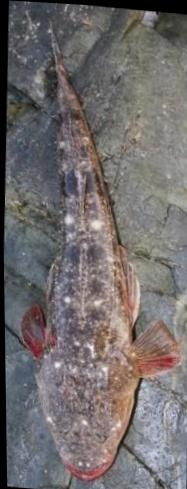fish: (20, 19, 179, 481)
